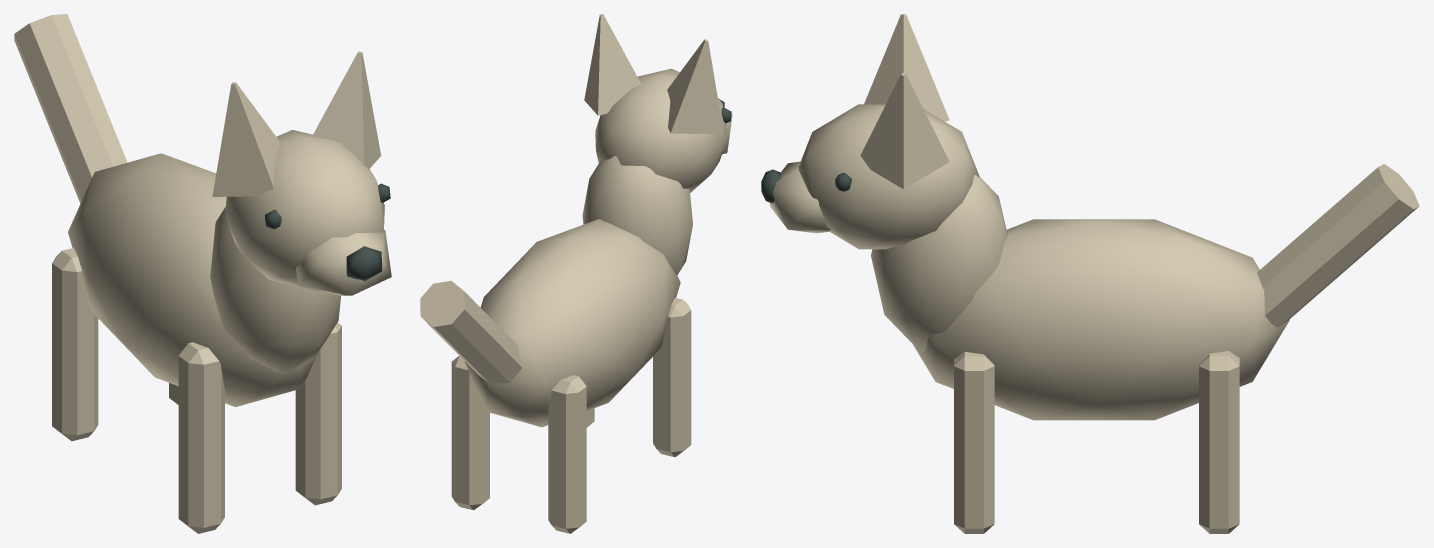
Rendered from cat.glb.
3 views of the same model, side by side, from view 1: azimuth 30°, elevation 25°; view 2: azimuth 150°, elevation 25°; view 3: azimuth 270°, elevation 25° (orthographic). The views are drawn at different scales.
Visible parts, largest first — view 1: Model; view 2: Model; view 3: Model.
Boxes of the visible parts, left/top/right/bottom form: Model: left=14, top=14, right=391, bottom=533; Model: left=420, top=14, right=732, bottom=533; Model: left=761, top=14, right=1419, bottom=533.
Size of the model in its own units: 0.2428 by 0.6503 by 0.8465.
